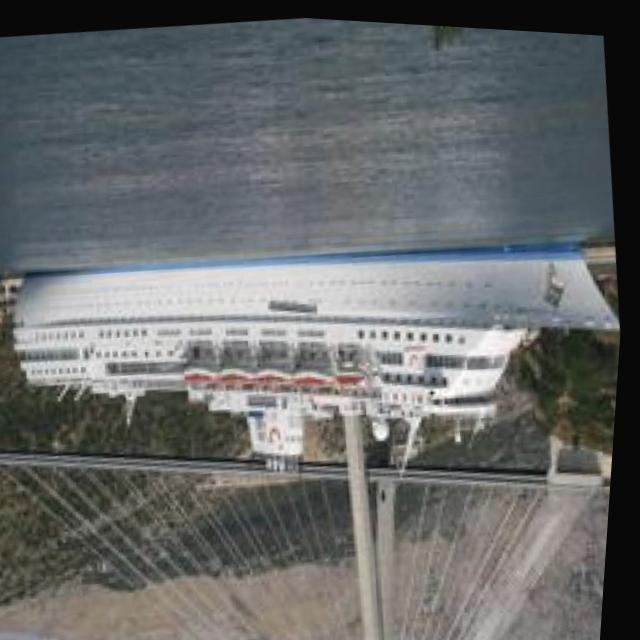ship2: (18, 232, 624, 462)
